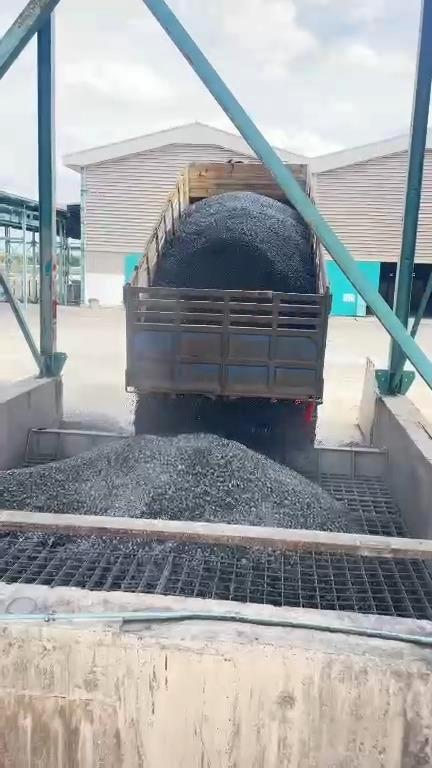gravel: (0, 434, 355, 531), (153, 192, 314, 293), (135, 393, 311, 462), (0, 530, 227, 560)
